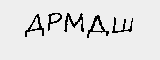Д: (88, 12, 108, 40), (25, 12, 44, 39)
М: (64, 12, 88, 36)
Р: (45, 10, 67, 34)
Ш: (110, 16, 135, 35)
